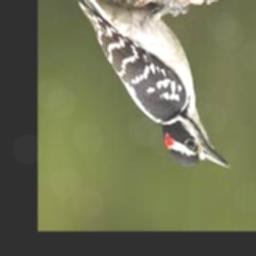Woodpecker: (74, 0, 229, 170)
